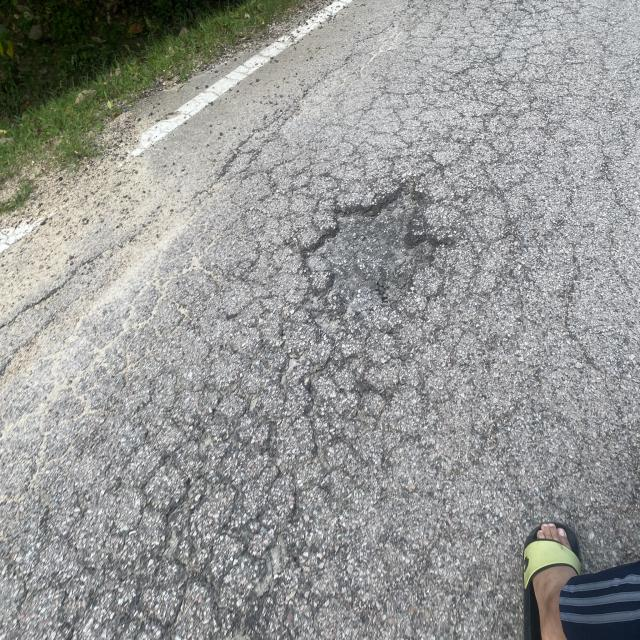Pothole: (288, 172, 499, 352)
